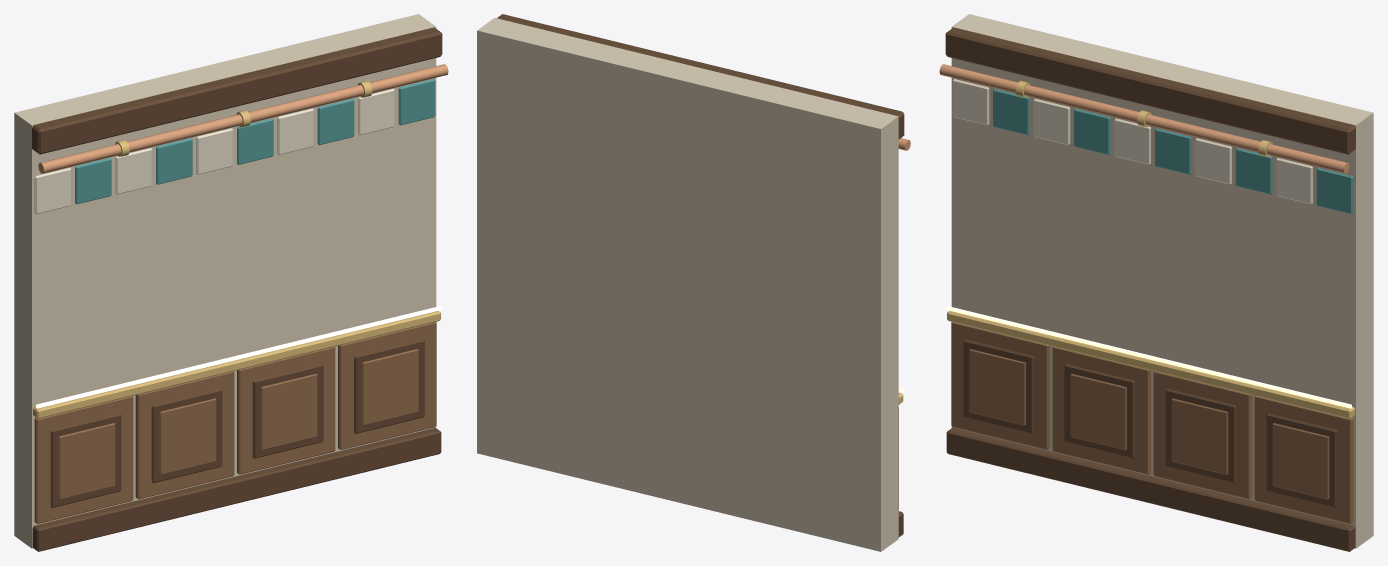
Rendered from wall_hm_panel.glb.
3 views of the same model, side by side, from view 1: azimuth 30°, elevation 25°; view 2: azimuth 150°, elevation 25°; view 3: azimuth 330°, elevation 25° (orthographic).
Visible parts, largest first — view 1: wall_hm_panel; view 2: wall_hm_panel; view 3: wall_hm_panel.
Part boxes in pixels (x1,y1,x2,y2): wall_hm_panel: (14, 14, 448, 551); wall_hm_panel: (477, 14, 910, 551); wall_hm_panel: (939, 14, 1373, 551).
Bounding box in the file's own units: 4 × 4 × 0.53.
